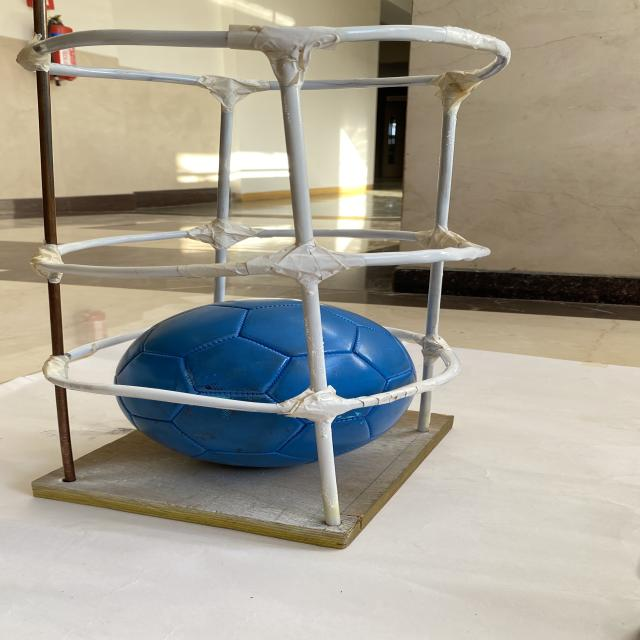blue_ball: (102, 289, 450, 483)
silo: (1, 10, 526, 547)
